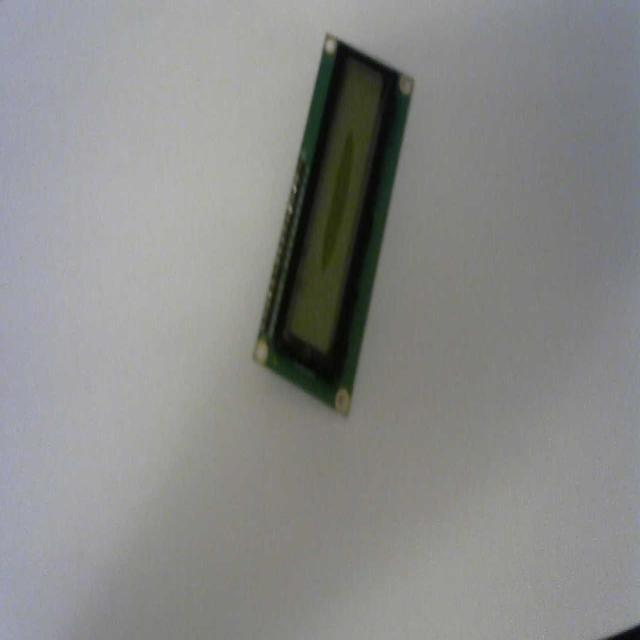lcd: (251, 30, 415, 417)
